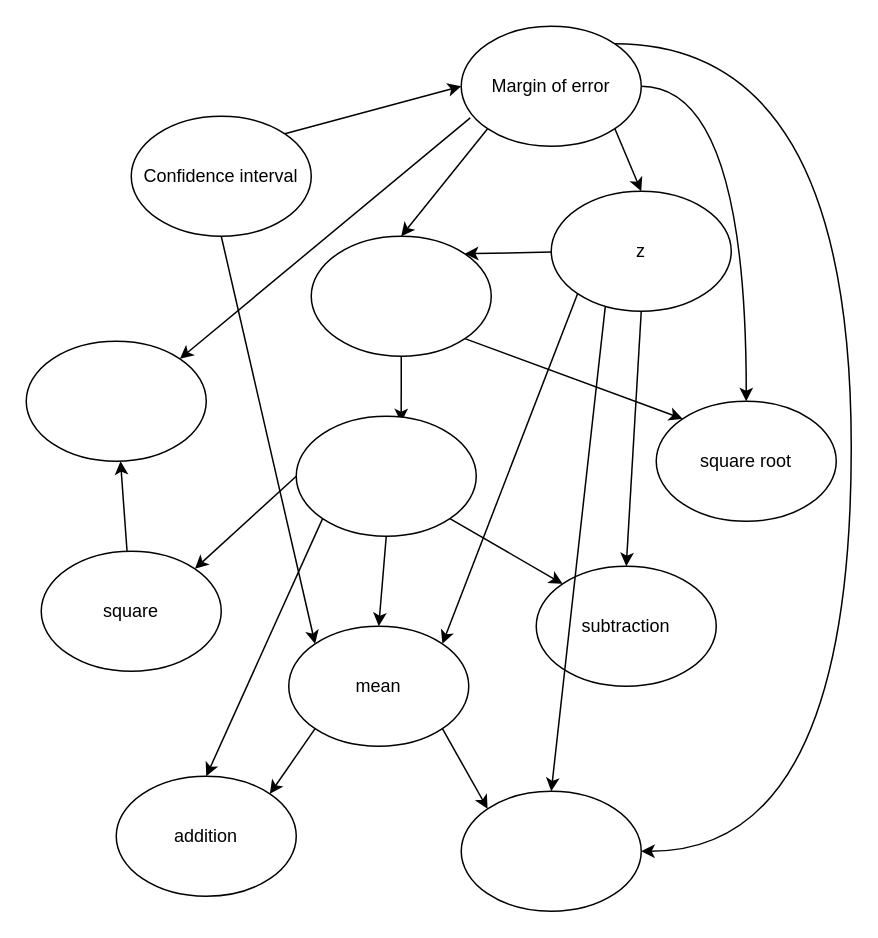
The diagram is 878 pixels wide and 938 high, and some of its shapes have lost their labels. The centre of each missing label's shape, as x and y in pixels:
"division" goes at point (550, 850).
"multiplication" goes at point (115, 400).
"Standard deviation" goes at point (400, 295).
"variance" goes at point (385, 475).
